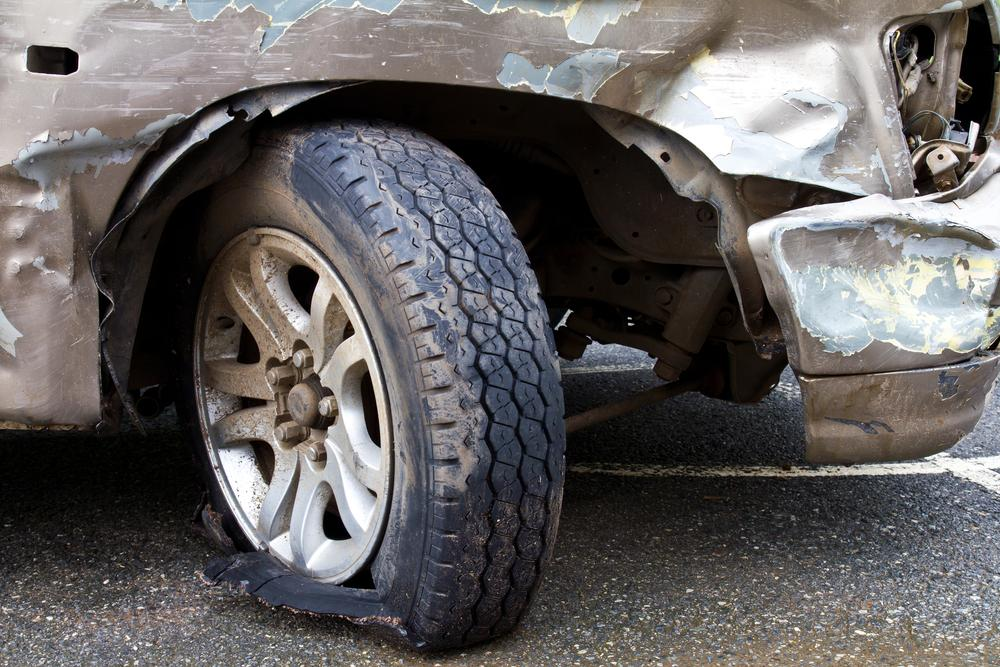dent: (632, 0, 846, 173), (776, 218, 1000, 352)
scratch: (13, 0, 664, 172)
tire flat: (174, 117, 568, 652)
